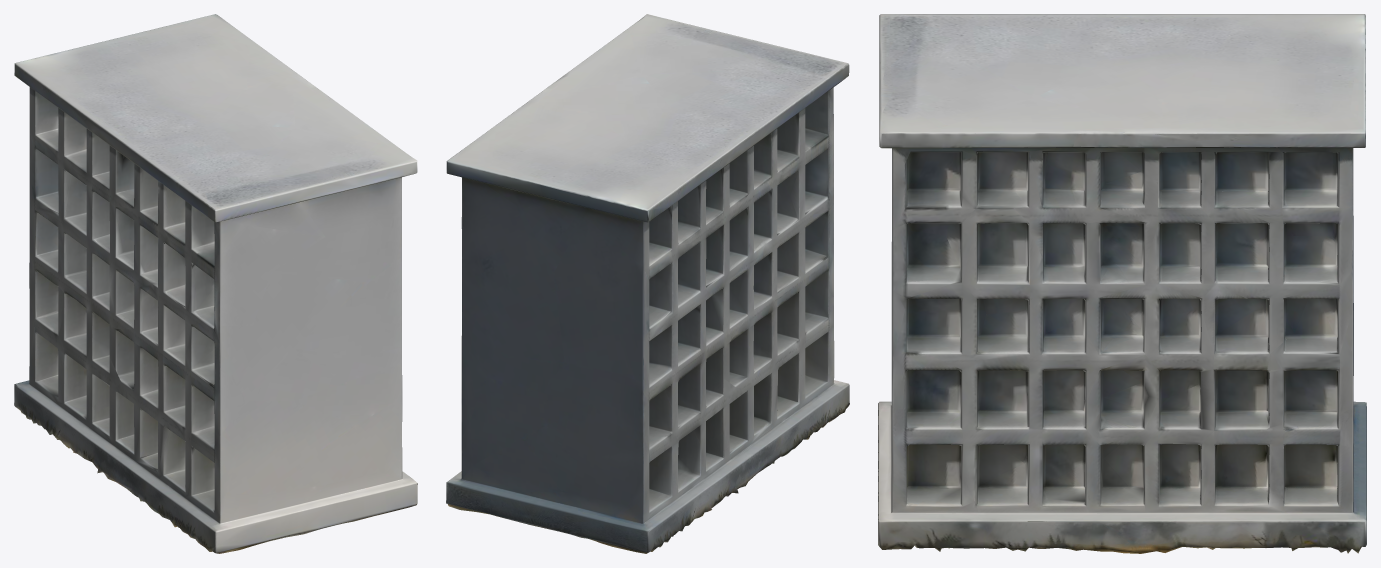
The model's file is columbarion2.fbx.
3 views of the same model, side by side, from view 1: azimuth 30°, elevation 25°; view 2: azimuth 150°, elevation 25°; view 3: azimuth 270°, elevation 25° (orthographic). The views are drawn at different scales.
Visible parts, largest first — view 1: tripo_node_723c4640; view 2: tripo_node_723c4640; view 3: tripo_node_723c4640.
Part boxes in pixels (x1,y1,x2,y2): tripo_node_723c4640: (14, 14, 417, 553); tripo_node_723c4640: (446, 14, 849, 553); tripo_node_723c4640: (878, 14, 1366, 553).
Bounding box in the file's own units: 0.5952 × 0.9502 × 0.9998.
1 material, 1 textured.
